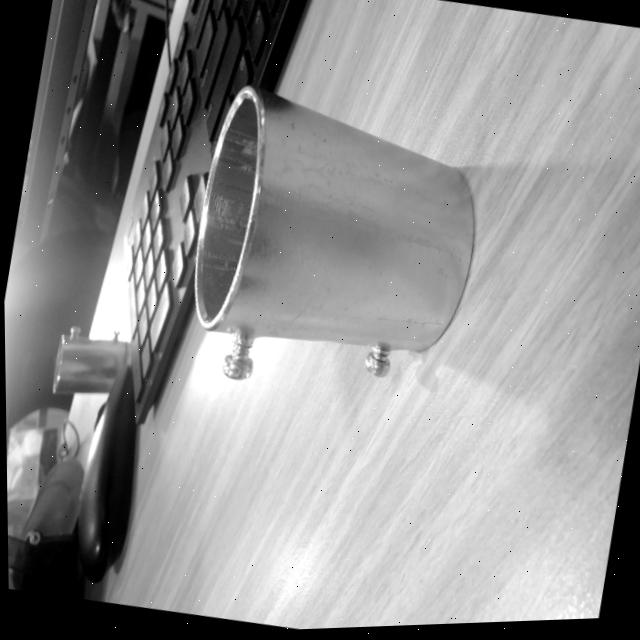Co_Lon: (169, 81, 494, 420)
